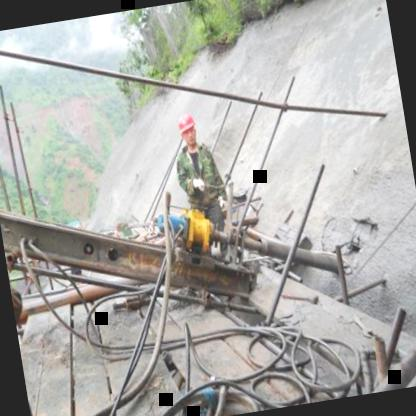helmet: (176, 110, 200, 148)
